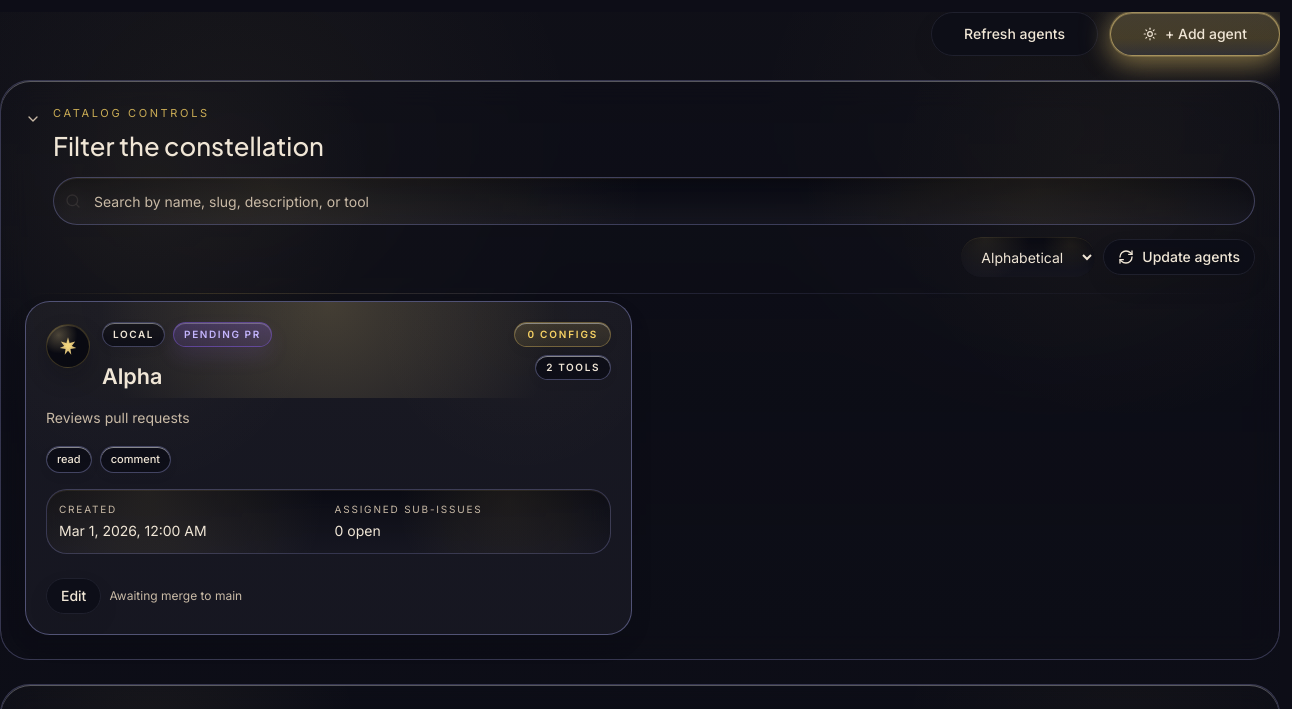
Test: AgentsPanel › collapses and expands the Catalog Controls section
The image size is (1292, 709).
Expected: the field with placeholder "Search by name, slug, description, or tool" is shown, [53,178,1255,226]
Click the button "Filter the constellation" at [131, 113], box [25,105,1255,162]
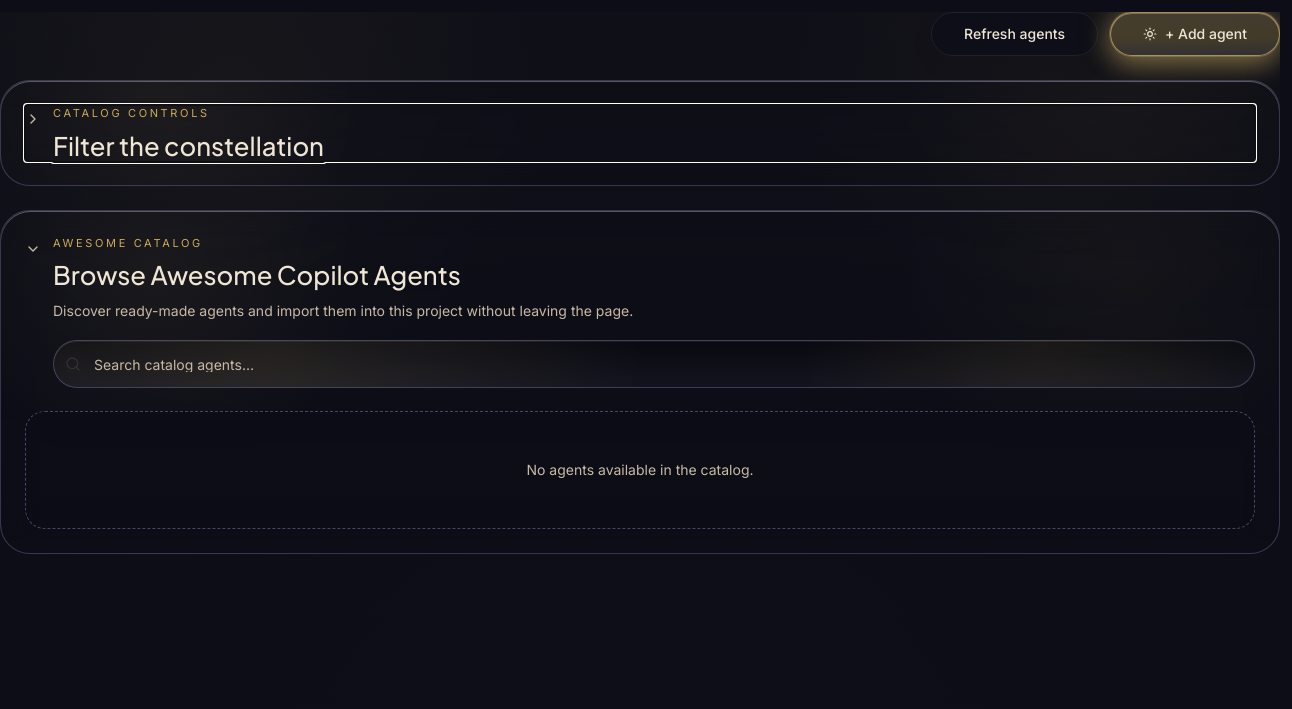
Expected: the field with placeholder "Search by name, slug, description, or tool" is not shown
Click the button "Filter the constellation" at [131, 113], box [25,105,1255,162]
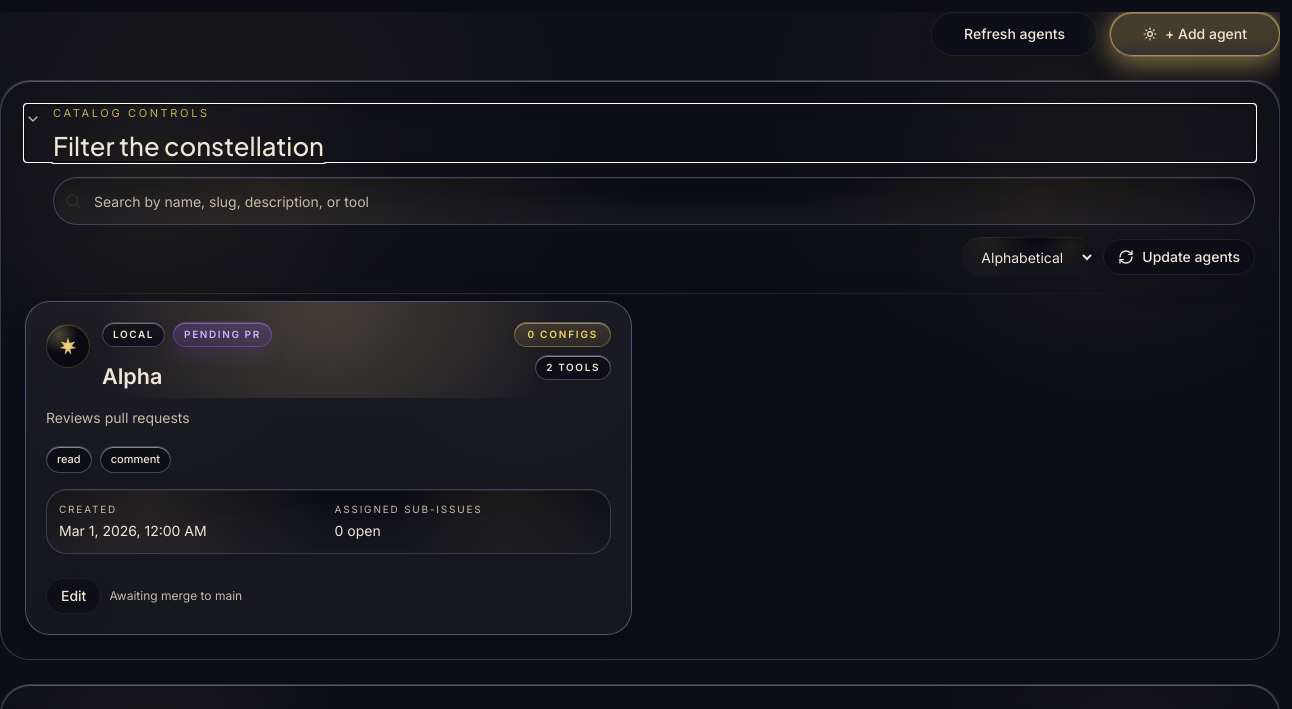
Expected: the field with placeholder "Search by name, slug, description, or tool" is shown, [53,178,1255,226]
